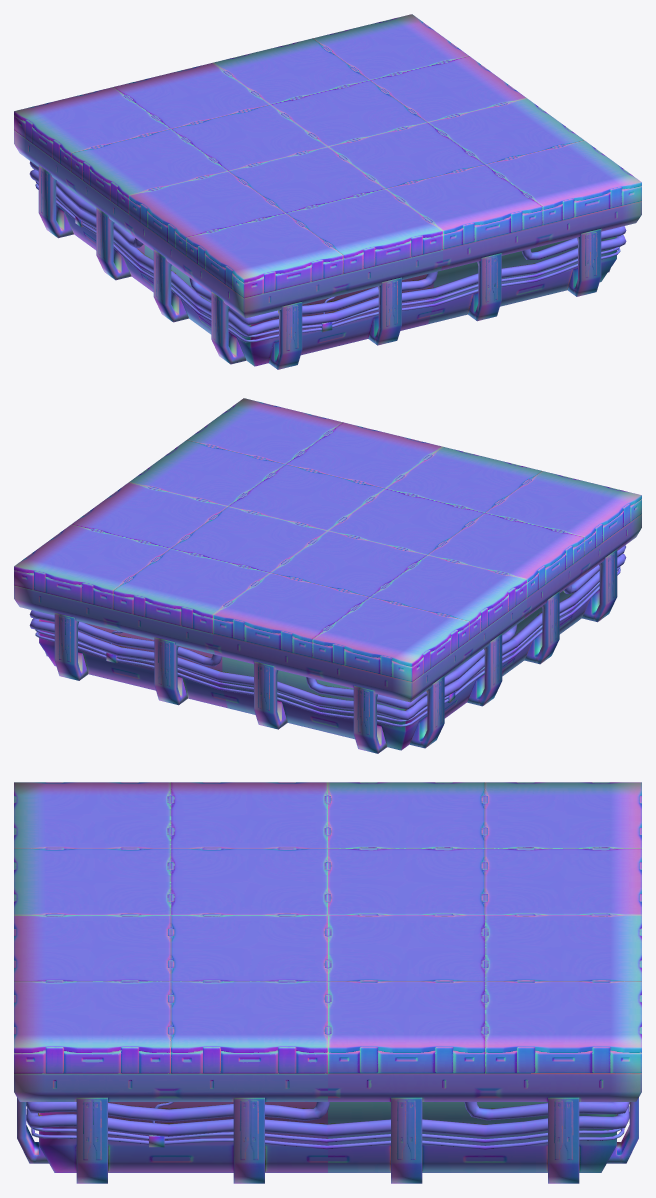
File: floor_module.obj
3 renders of one model, top to bottom at view 1: azimuth 30°, elevation 25°; view 2: azimuth 150°, elevation 25°; view 3: azimuth 270°, elevation 25°, orthographic. The views are drawn at different scales.
Visible parts, largest first — view 1: Cube.014_Cube.011; view 2: Cube.014_Cube.011; view 3: Cube.014_Cube.011.
Boxes of the visible parts, bbox=[...] form: Cube.014_Cube.011: bbox=[14, 14, 641, 369]; Cube.014_Cube.011: bbox=[14, 398, 641, 753]; Cube.014_Cube.011: bbox=[14, 782, 641, 1183].
Size of the model in its own units: 7.99 by 2 by 7.99.
